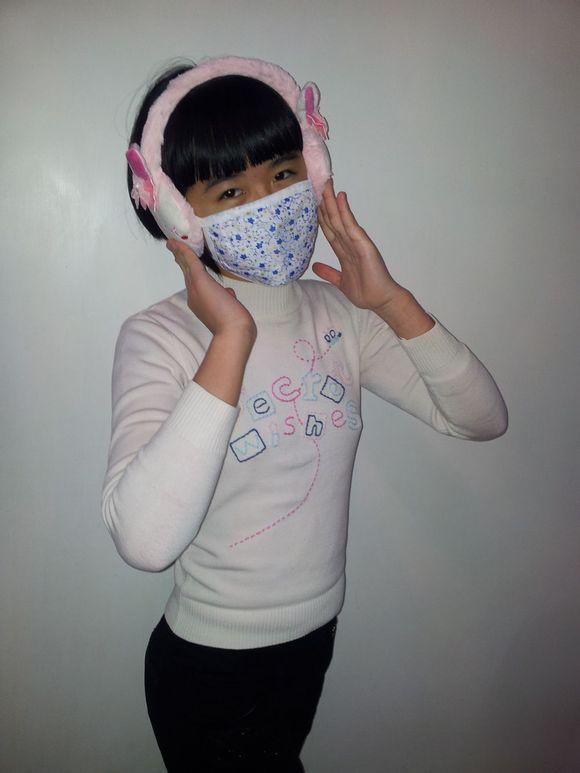OK: (188, 142, 336, 290)
